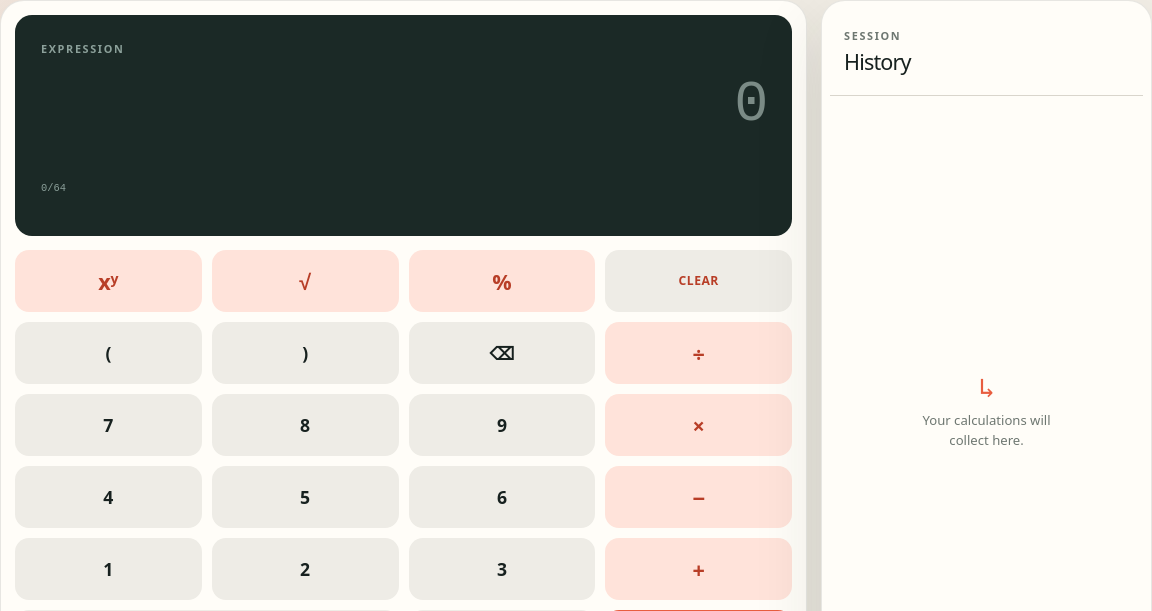
Scenario: calculator input › applies percentage and power to a displayed result
Type "2+3" into the field at (404, 105), box [41,71,766,140]
Then press Enter
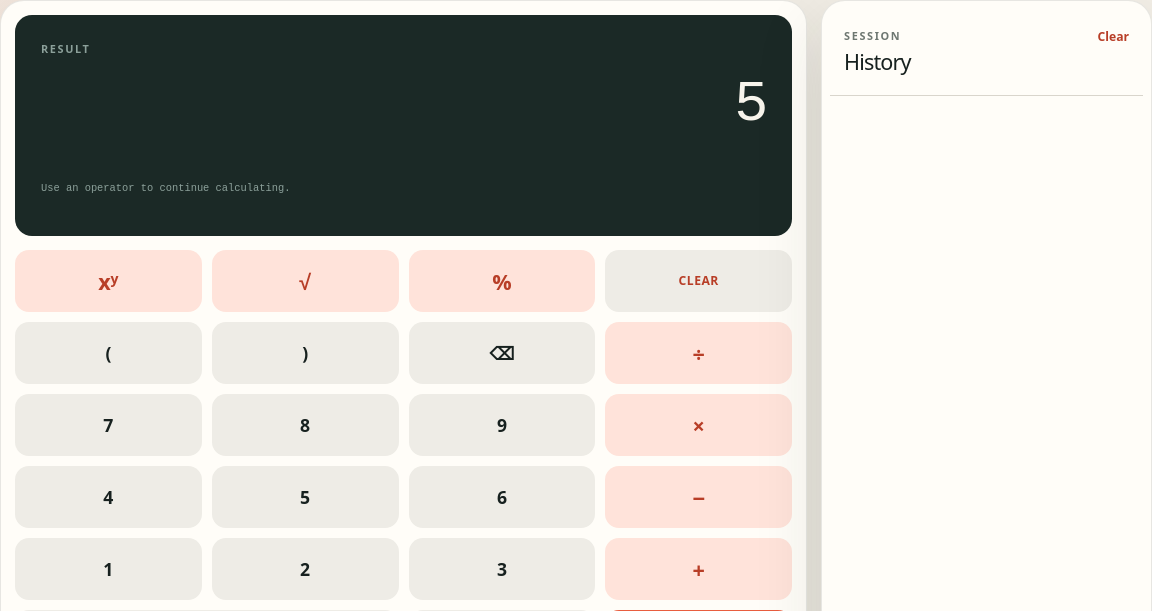
Click the button named "Percentage" at (502, 282), box [408,250,595,312]
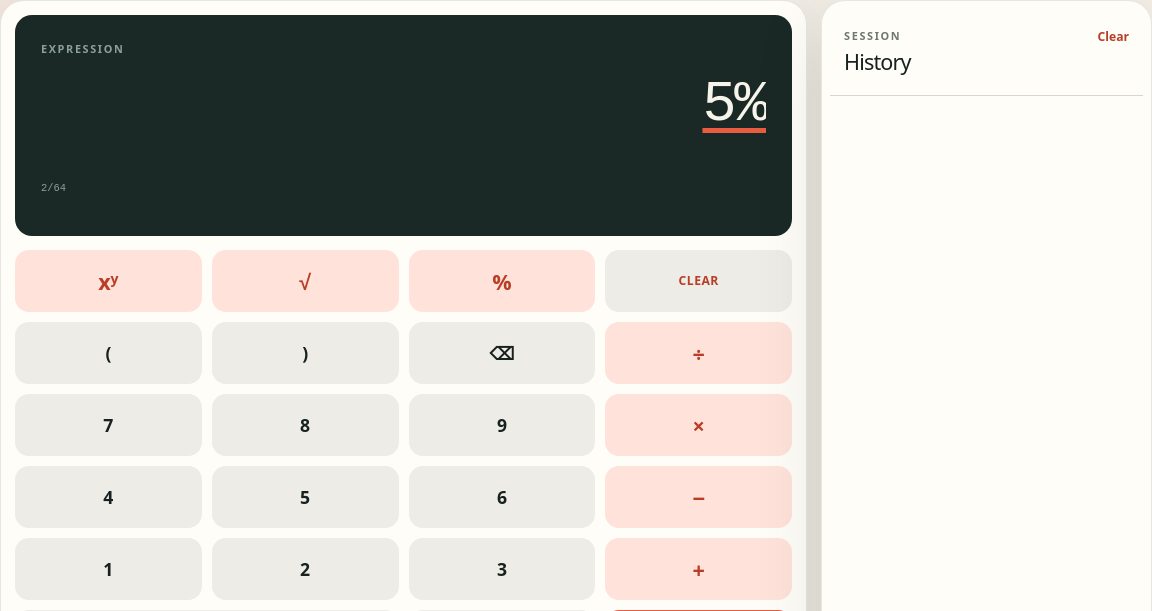
Now the field holds "5%", box [41,71,766,140]
Click the button with aria-label "Exponentiation" at (108, 282), box [15,250,202,312]
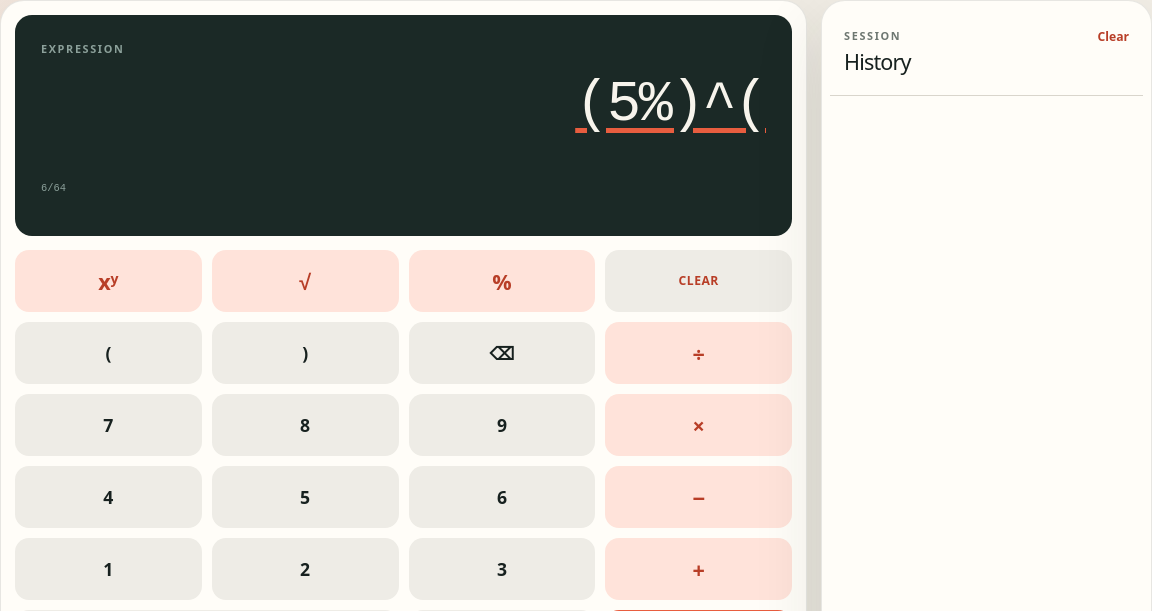
Now the field holds "(5%)^(", box [41,71,766,140]
